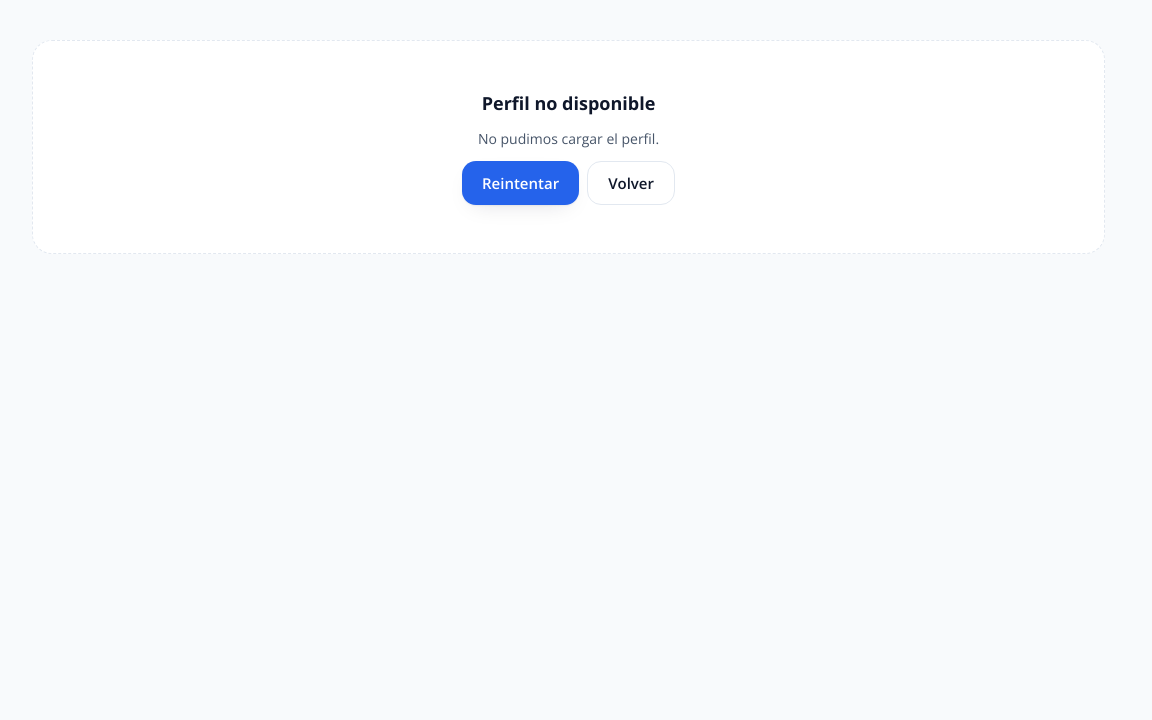
TeacherProfilePage › retries the same profile after a transient error
Expected: the text "No pudimos cargar el perfil." is shown, 478,129 -> 659,149
Click the button "Reintentar".
click(521, 183)  # box 462,161 -> 579,205
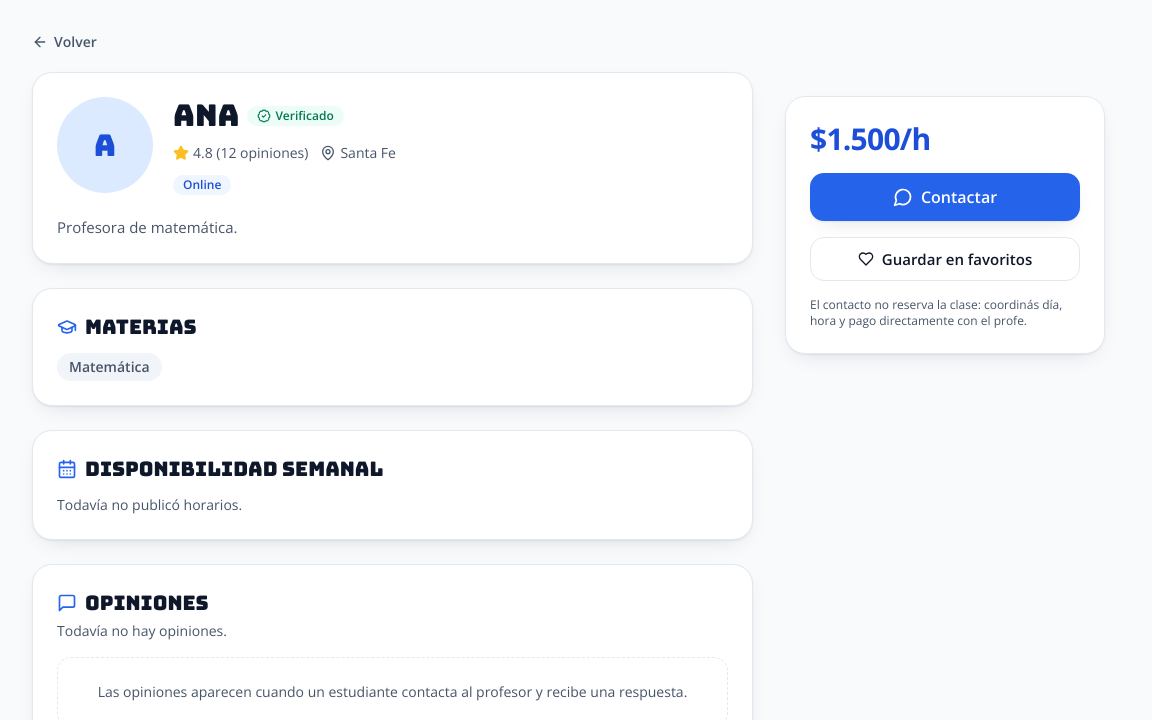
Result: the heading "Ana" is shown at 173,97 -> 239,134
